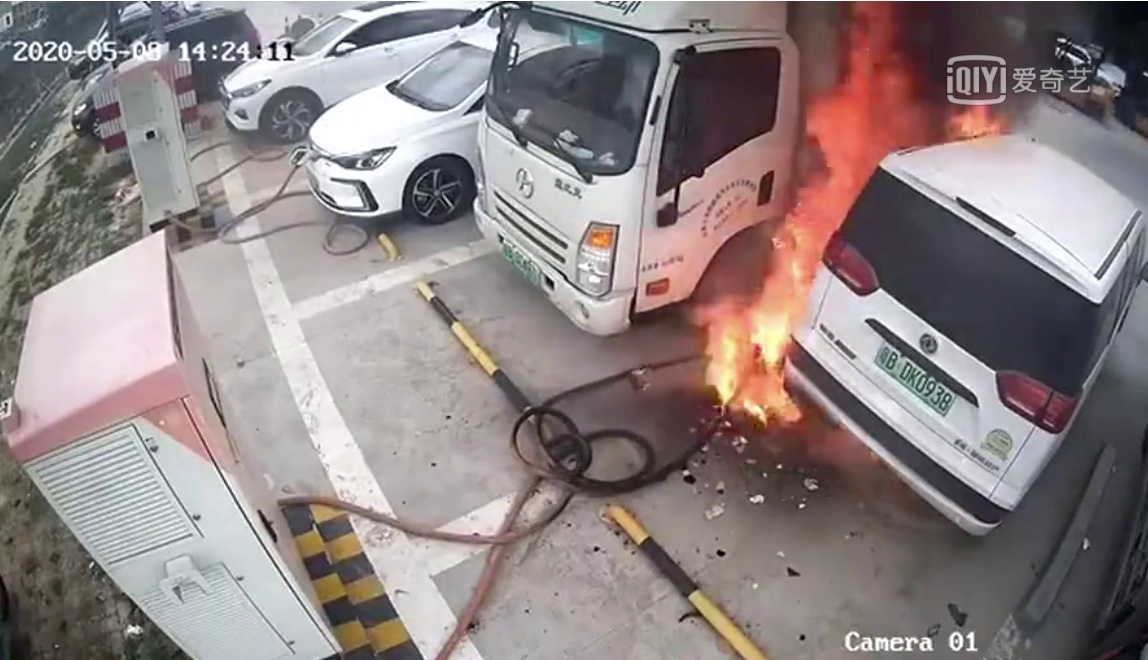fire: (706, 171, 838, 440), (794, 12, 946, 164)
